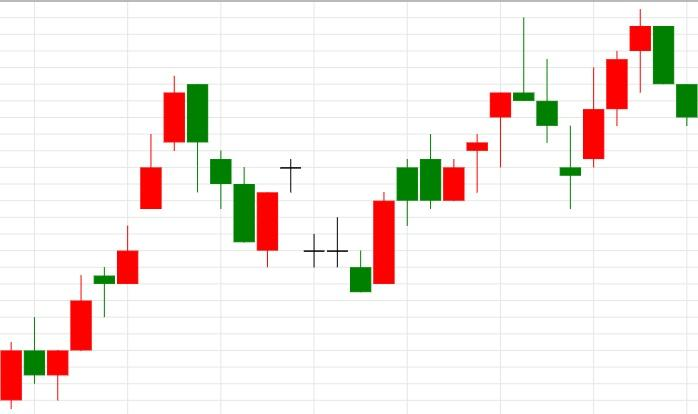three_black_crows_fall: (0, 76, 256, 410)
